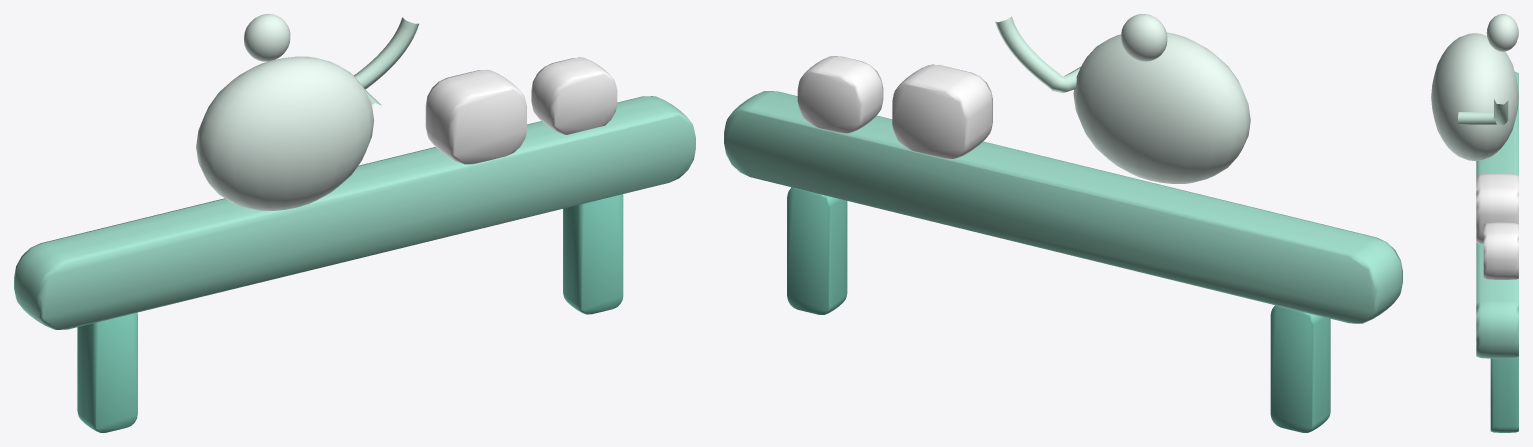
File: decor_3_mint.glb
The picture shows the model from 3 angles, left to right: view 1: azimuth 30°, elevation 25°; view 2: azimuth 150°, elevation 25°; view 3: azimuth 270°, elevation 25°; orthographic projection. The views are drawn at different scales.
Parts seen in each view (by area): view 1: decor_3_mint; view 2: decor_3_mint; view 3: decor_3_mint.
Part boxes in pixels (x1=…): decor_3_mint: x1=14, y1=14, x2=695, y2=432; decor_3_mint: x1=724, y1=14, x2=1402, y2=432; decor_3_mint: x1=1431, y1=14, x2=1518, y2=432.
Bounding box in the file's own units: 12.5 × 6.73 × 1.86.
